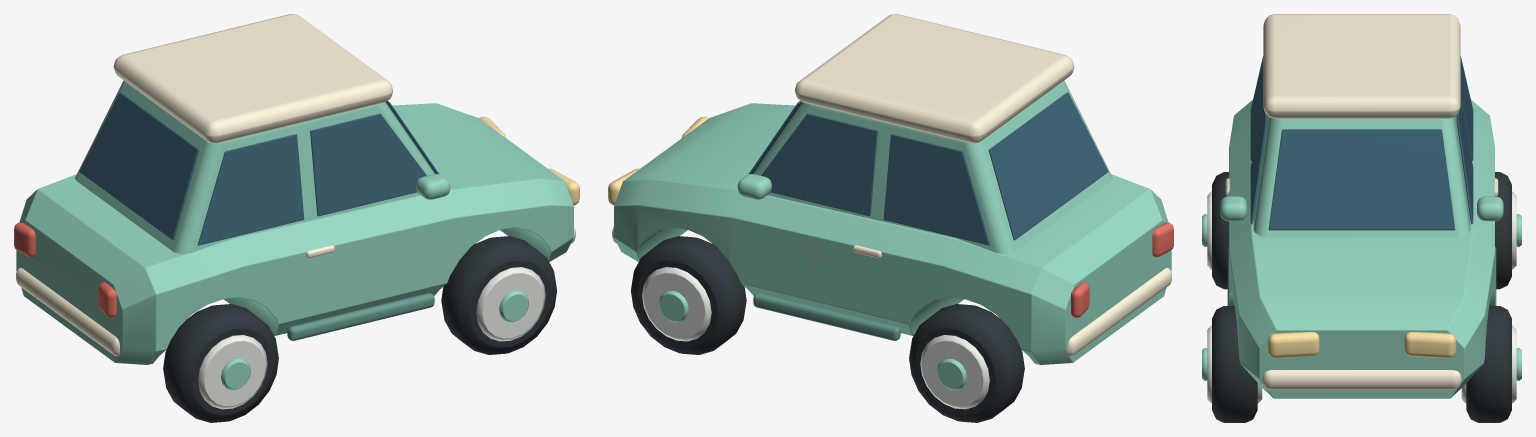
Rendered from cozy_car.glb.
3 renders of one model, left to right at view 1: azimuth 30°, elevation 25°; view 2: azimuth 150°, elevation 25°; view 3: azimuth 270°, elevation 25°, orthographic.
Parts seen in each view (by area): view 1: Body, Roof, Cabin_Frame, Rear_Window, Side_Window_Front_R, Side_Window_Rear_R, Wheel_RR, Wheel_FR, Hub_FR_Outer, Hub_RR_Outer, Sill_R, Bumper_Rear (+5 smaller); view 2: Body, Roof, Cabin_Frame, Rear_Window, Side_Window_Front_L, Side_Window_Rear_L, Wheel_RL, Wheel_FL, Hub_FL_Outer, Hub_RL_Outer, Sill_L, Bumper_Rear (+5 smaller); view 3: Body, Roof, Windshield, Cabin_Frame, Bumper_Front, Wheel_FR, Wheel_FL, Wheel_RL, Wheel_RR, Headlight_L, Headlight_R, Side_Window_Front_L (+9 smaller).
Boxes of the visible parts, left/top/right/bottom form: Body: left=16, top=103, right=573, bottom=364; Roof: left=113, top=14, right=392, bottom=143; Cabin_Frame: left=75, top=80, right=434, bottom=253; Rear_Window: left=79, top=92, right=199, bottom=240; Side_Window_Front_R: left=310, top=113, right=426, bottom=216; Side_Window_Rear_R: left=197, top=134, right=304, bottom=245; Wheel_RR: left=163, top=304, right=278, bottom=422; Wheel_FR: left=441, top=236, right=556, bottom=354; Hub_FR_Outer: left=476, top=267, right=545, bottom=341; Hub_RR_Outer: left=198, top=335, right=267, bottom=409; Sill_R: left=287, top=293, right=434, bottom=340; Bumper_Rear: left=16, top=267, right=120, bottom=356; Body: left=614, top=103, right=1171, bottom=364; Roof: left=795, top=14, right=1074, bottom=143; Cabin_Frame: left=753, top=80, right=1112, bottom=253; Rear_Window: left=988, top=92, right=1108, bottom=240; Side_Window_Front_L: left=761, top=113, right=877, bottom=216; Side_Window_Rear_L: left=883, top=134, right=990, bottom=245; Wheel_RL: left=909, top=304, right=1024, bottom=422; Wheel_FL: left=631, top=236, right=746, bottom=354; Hub_FL_Outer: left=642, top=267, right=711, bottom=341; Hub_RL_Outer: left=920, top=335, right=989, bottom=409; Sill_L: left=753, top=293, right=900, bottom=340; Bumper_Rear: left=1067, top=267, right=1171, bottom=356; Body: left=1229, top=100, right=1494, bottom=398; Roof: left=1263, top=14, right=1460, bottom=118; Windshield: left=1268, top=129, right=1455, bottom=230; Cabin_Frame: left=1253, top=116, right=1470, bottom=237; Bumper_Front: left=1262, top=370, right=1461, bottom=389; Wheel_FR: left=1212, top=306, right=1257, bottom=422; Wheel_FL: left=1466, top=306, right=1511, bottom=422; Wheel_RL: left=1495, top=172, right=1511, bottom=289; Wheel_RR: left=1212, top=172, right=1228, bottom=289; Headlight_L: left=1404, top=332, right=1456, bottom=358; Headlight_R: left=1267, top=332, right=1319, bottom=358; Side_Window_Front_L: left=1456, top=99, right=1473, bottom=224.
Size of the model in its own units: 3.21 by 1.8 by 1.9.
